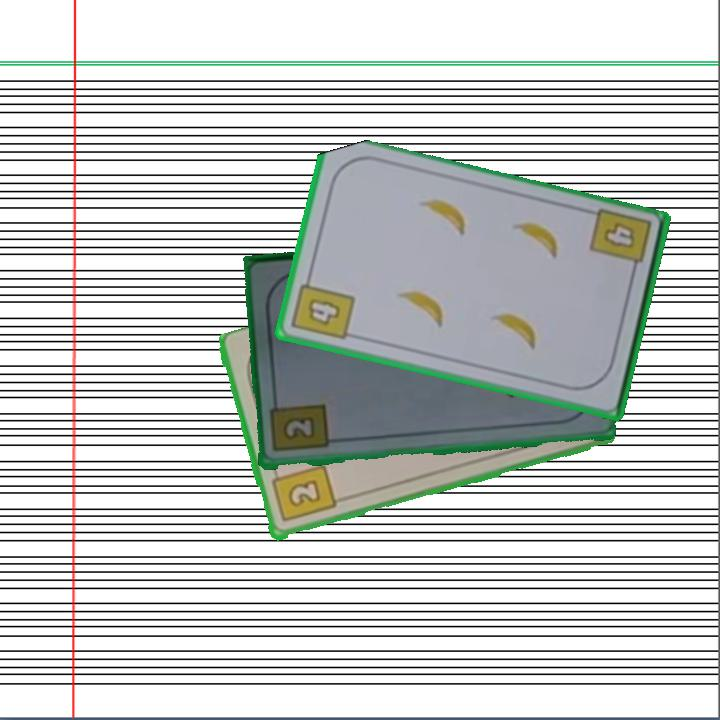2b: (267, 462, 338, 526), (266, 395, 331, 455)
4b: (288, 271, 358, 344), (586, 205, 654, 280)
